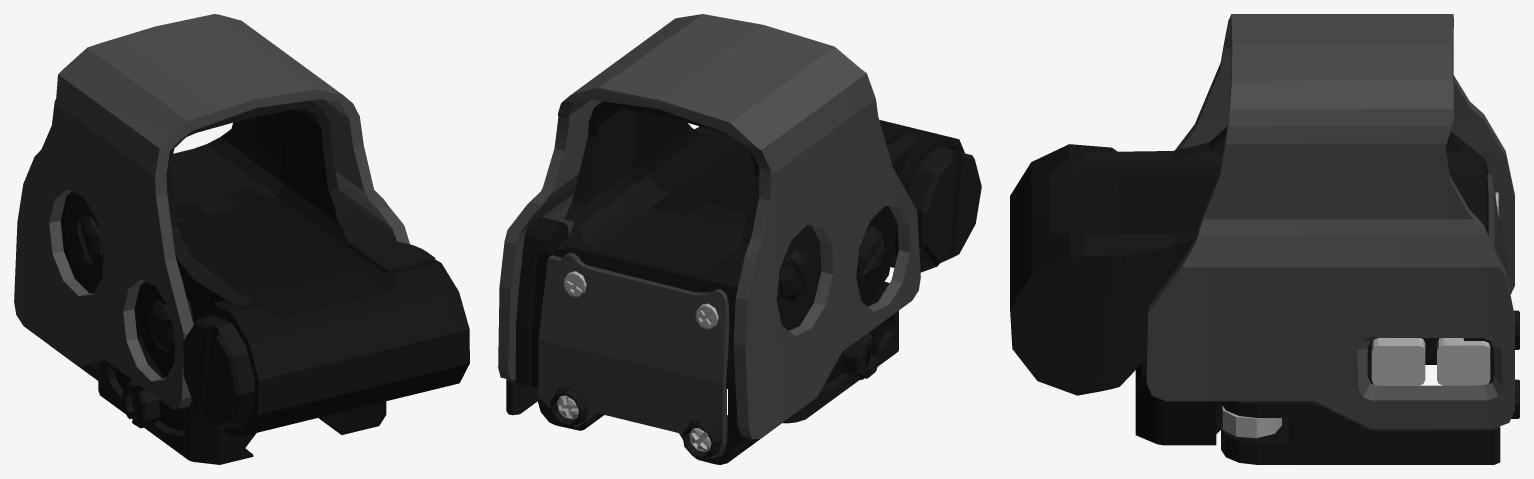
File: Holo Sight.fbx
3 renders of one model, left to right at view 1: azimuth 30°, elevation 25°; view 2: azimuth 150°, elevation 25°; view 3: azimuth 270°, elevation 25°, orthographic. The views are drawn at different scales.
Visible parts, largest first — view 1: Holo Sight; view 2: Holo Sight; view 3: Holo Sight.
Boxes of the visible parts, <box> form: Holo Sight: <box>14,14,469,464</box>; Holo Sight: <box>498,14,981,464</box>; Holo Sight: <box>1010,14,1519,464</box>.
Bounding box in the file's own units: 5.24 × 6.5 × 8.57.
